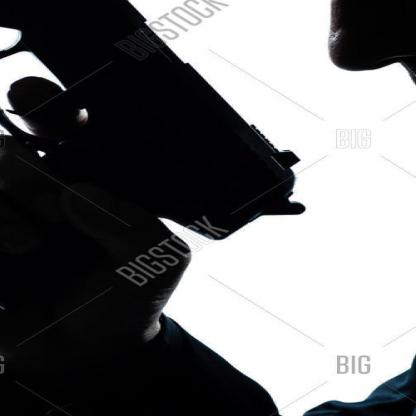gun: (0, 0, 309, 336)
